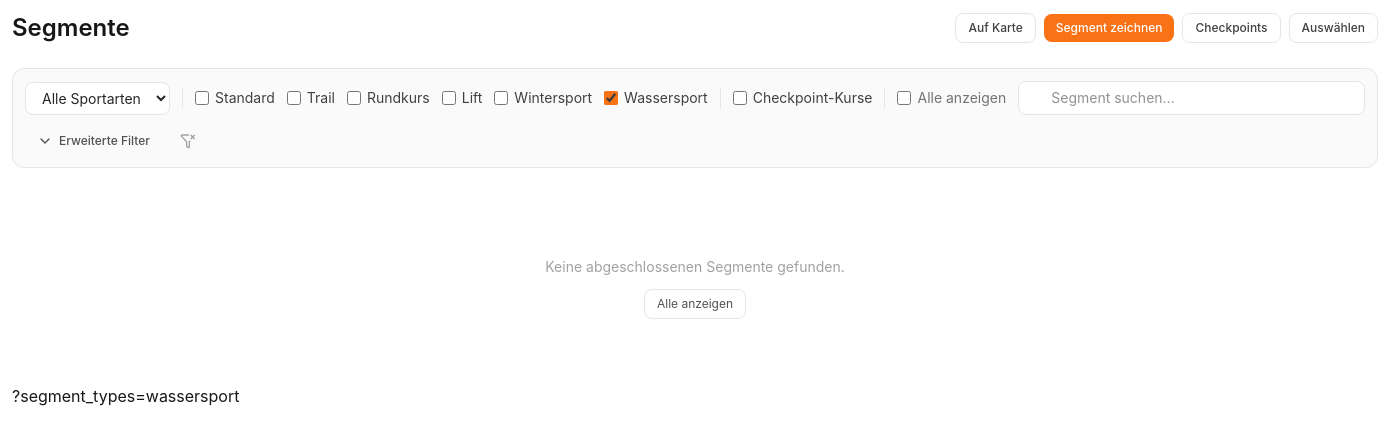
Test: SegmentsPage filters › preserves explicit empty segment type selection after unchecking the last type
Click the checkbox labelled "Wassersport". click: (611, 98)
box: left=604, top=91, right=618, bottom=105
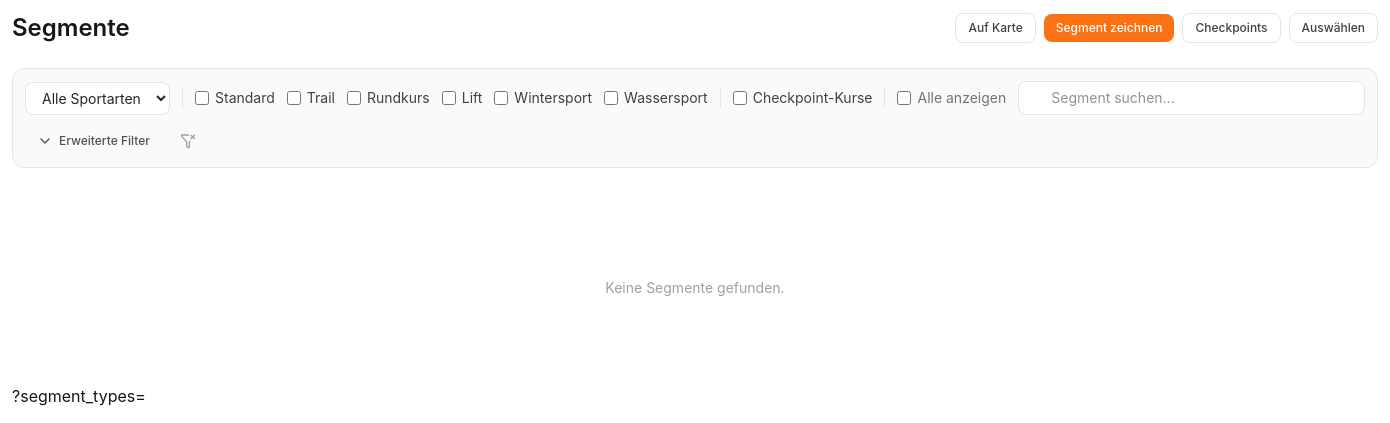
Expected: the text with test id "location-search" shows "segment_types=", left=12, top=386, right=146, bottom=406
Expected: the checkbox labelled "Wassersport" is not checked, left=604, top=91, right=618, bottom=105
Expected: the text "Keine Segmente gefunden." is shown, left=605, top=278, right=785, bottom=298
